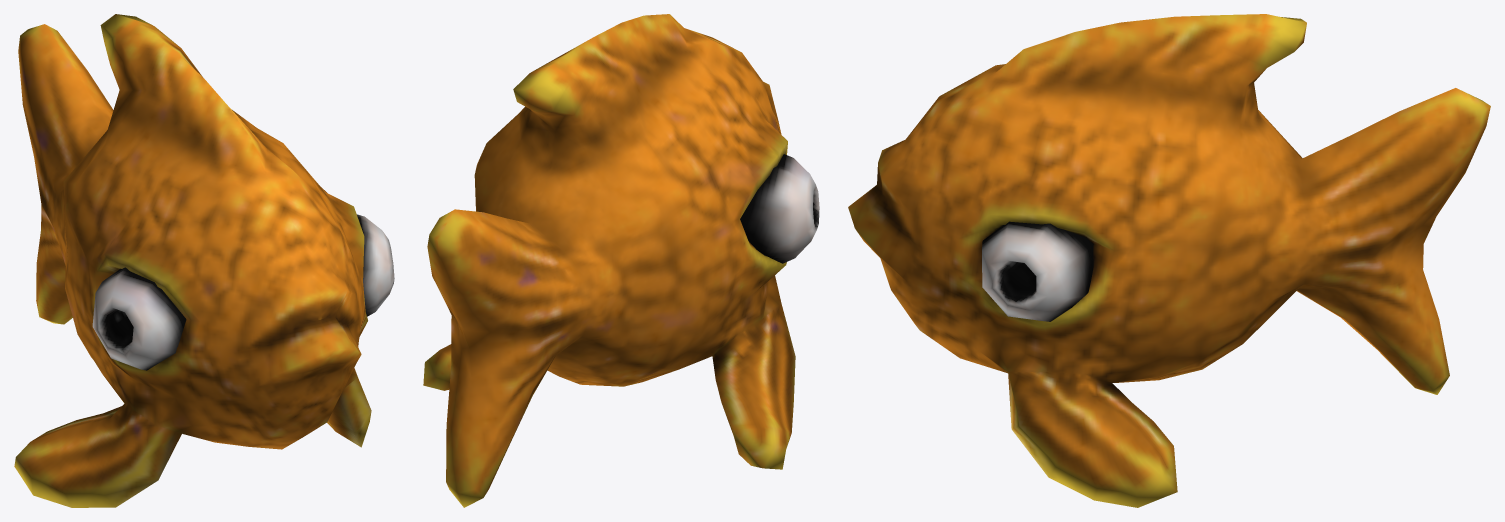
File: BaratieIcon.glb
3 views of the same model, side by side, from view 1: azimuth 30°, elevation 25°; view 2: azimuth 150°, elevation 25°; view 3: azimuth 270°, elevation 25° (orthographic). The views are drawn at different scales.
Visible parts, largest first — view 1: Fish; view 2: Fish; view 3: Fish.
Part boxes in pixels (left/top/right/bottom): Fish: left=14, top=14, right=394, bottom=507; Fish: left=423, top=14, right=819, bottom=507; Fish: left=848, top=14, right=1490, bottom=507.
Bounding box in the file's own units: 2.3 × 2.56 × 3.62.
1 material, 1 textured.
